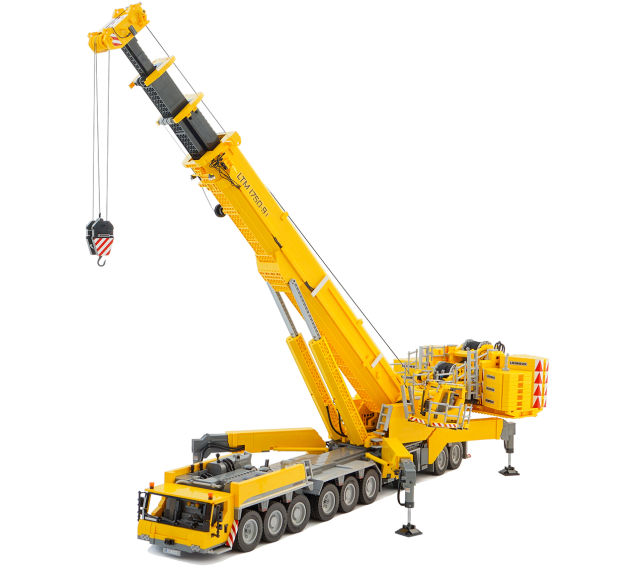crane: (81, 5, 552, 563)
